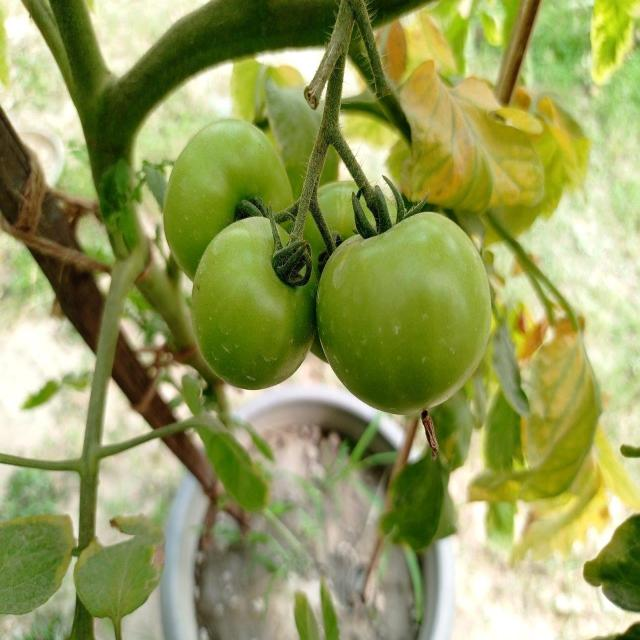Unripe: (316, 206, 493, 414), (192, 216, 315, 390)
